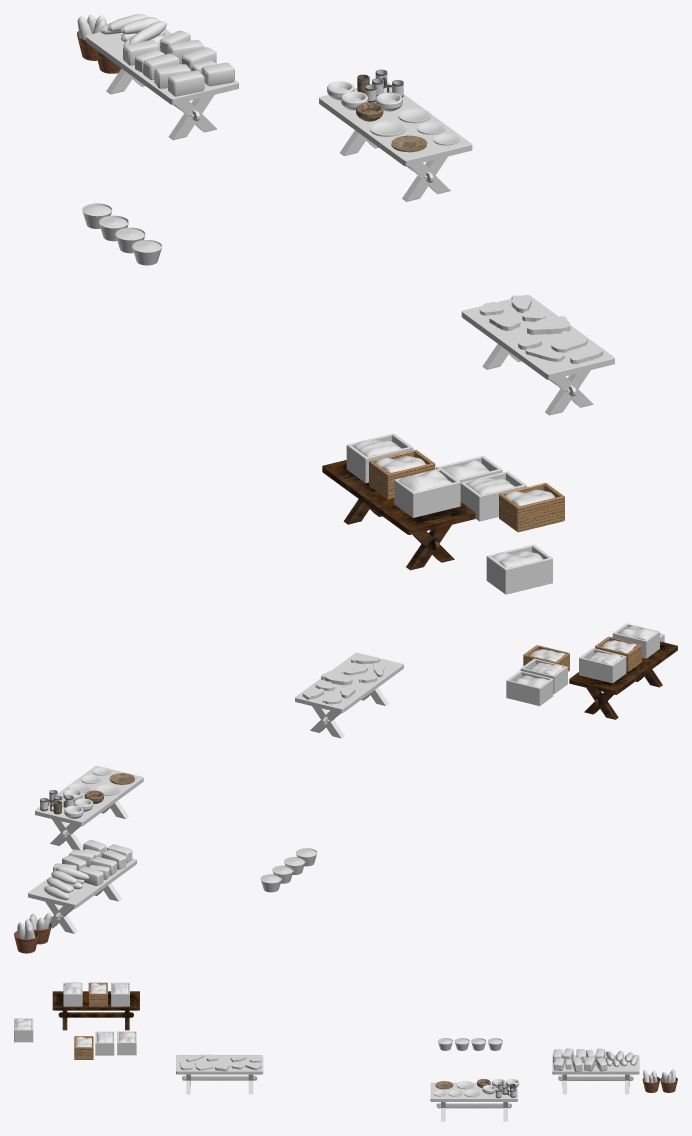
File: Tienda_3_cositas_remake.fbx
3 renders of one model, top to bottom at view 1: azimuth 30°, elevation 25°; view 2: azimuth 150°, elevation 25°; view 3: azimuth 270°, elevation 25°, orthographic. The views are drawn at different scales.
Visible parts, largest first — view 1: Meieval_Table_1, Table_Of_Bread, Table_Of_DinnerWare, Table_Of_Meat, Box_Of_Oranges_3, Box_Of_Apples_6, Box_Of_Carrots_3, Box_Of_Potatoes_3; view 2: Meieval_Table_1, Table_Of_Bread, Table_Of_DinnerWare, Table_Of_Meat, Box_Of_Potatoes_3, Box_Of_Carrots_3, Box_Of_Apples_6, Bread_Wicker_Basket_2; view 3: Meieval_Table_1, Table_Of_Bread, Table_Of_DinnerWare, Table_Of_Meat, Box_Of_Carrots_3, Box_Of_Potatoes_3, Box_Of_Oranges_3, Box_Of_Apples_6, Bread_Wicker_Basket_2, Braed_Wicker_Basket_1.
Boxes of the visible parts, box(x1,y1,x2,y2) form: Meieval_Table_1: box(322, 433, 475, 570); Table_Of_Bread: box(85, 14, 238, 140); Table_Of_DinnerWare: box(319, 69, 472, 201); Table_Of_Meat: box(461, 295, 614, 415); Box_Of_Oranges_3: box(486, 544, 552, 594); Box_Of_Apples_6: box(499, 483, 564, 532); Box_Of_Carrots_3: box(460, 471, 526, 521); Box_Of_Potatoes_3: box(436, 456, 502, 482); Meieval_Table_1: box(569, 623, 677, 719); Table_Of_Bread: box(28, 840, 136, 933); Table_Of_DinnerWare: box(35, 766, 143, 850); Table_Of_Meat: box(295, 652, 403, 738); Box_Of_Potatoes_3: box(506, 670, 553, 705); Box_Of_Carrots_3: box(520, 658, 567, 693); Box_Of_Apples_6: box(523, 645, 569, 671); Bread_Wicker_Basket_2: box(14, 919, 39, 953); Meieval_Table_1: box(52, 982, 139, 1030); Table_Of_Bread: box(552, 1048, 639, 1094); Table_Of_DinnerWare: box(430, 1079, 519, 1121); Table_Of_Meat: box(176, 1054, 263, 1094); Box_Of_Carrots_3: box(95, 1031, 114, 1055); Box_Of_Potatoes_3: box(117, 1031, 136, 1055); Box_Of_Oranges_3: box(14, 1018, 33, 1042); Box_Of_Apples_6: box(74, 1036, 93, 1059); Bread_Wicker_Basket_2: box(660, 1069, 677, 1092); Braed_Wicker_Basket_1: box(642, 1070, 660, 1092).
Size of the model in its own units: 959 by 169 by 2491.
